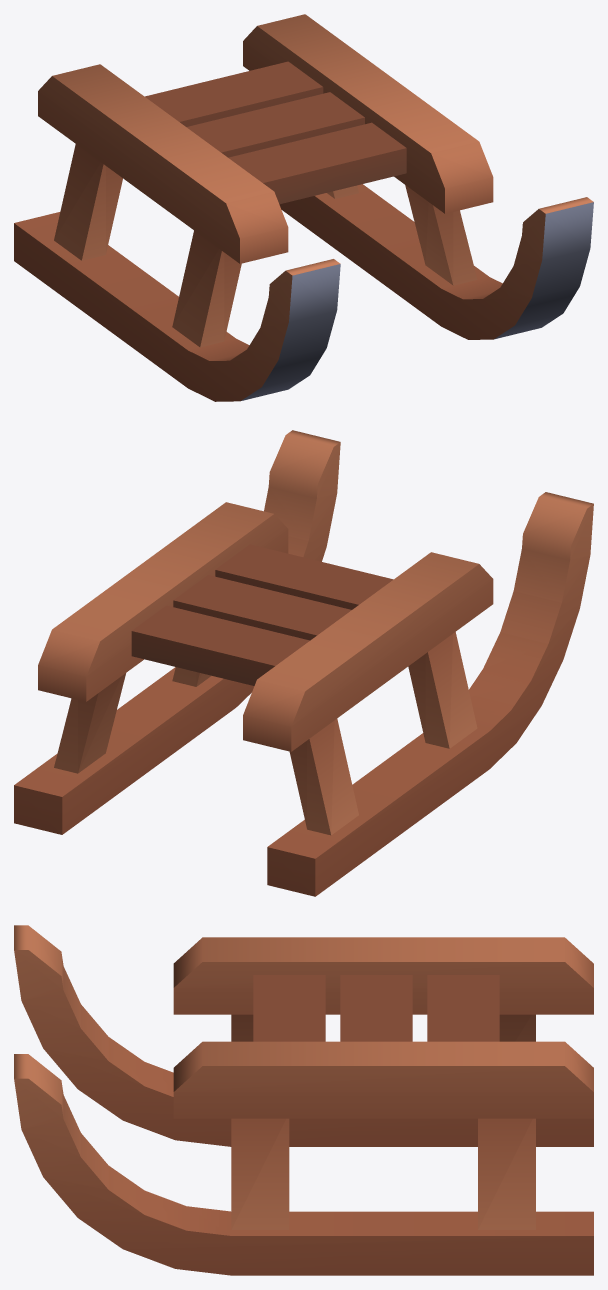
Rendered from sw_sled.glb.
The picture shows the model from 3 angles, top to bottom: view 1: azimuth 30°, elevation 25°; view 2: azimuth 150°, elevation 25°; view 3: azimuth 270°, elevation 25°; orthographic projection. The views are drawn at different scales.
Parts seen in each view (by area): view 1: sw_sled; view 2: sw_sled; view 3: sw_sled.
Part boxes in pixels (bbox=[...]): sw_sled: bbox=[14, 14, 593, 401]; sw_sled: bbox=[14, 430, 593, 896]; sw_sled: bbox=[14, 925, 593, 1275].
Size of the model in its own units: 1.25 by 0.7506 by 2.
